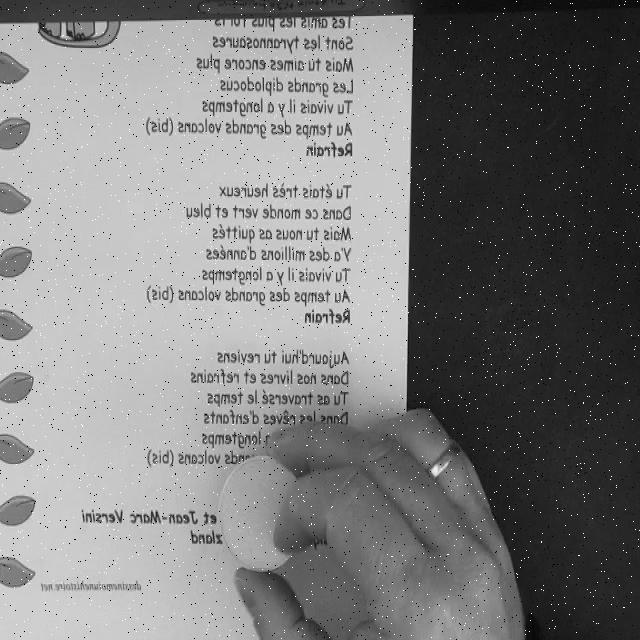round: (218, 454, 308, 575)
